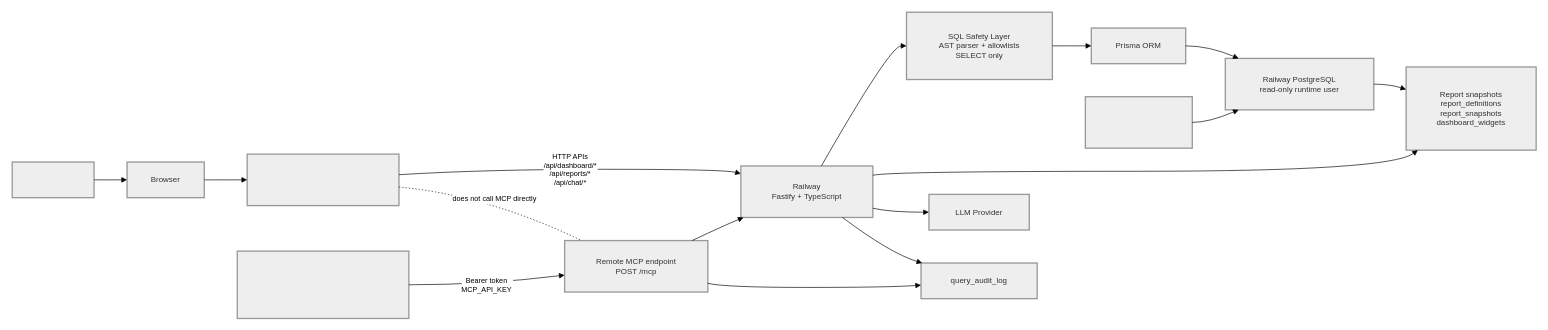
This 1548x330 diagram has some shape labels left out. Each missing label, with the centre of its shape:
"CEO user" goes at pixel 52 179.
"Claude Desktop / Cursor / Codex MCP clients" goes at pixel 322 284.
"Cloudflare Workers Next.js SSR + shadcn/ui" goes at pixel 322 179.
"Prisma seed fake MVP data" goes at pixel 1138 122.
